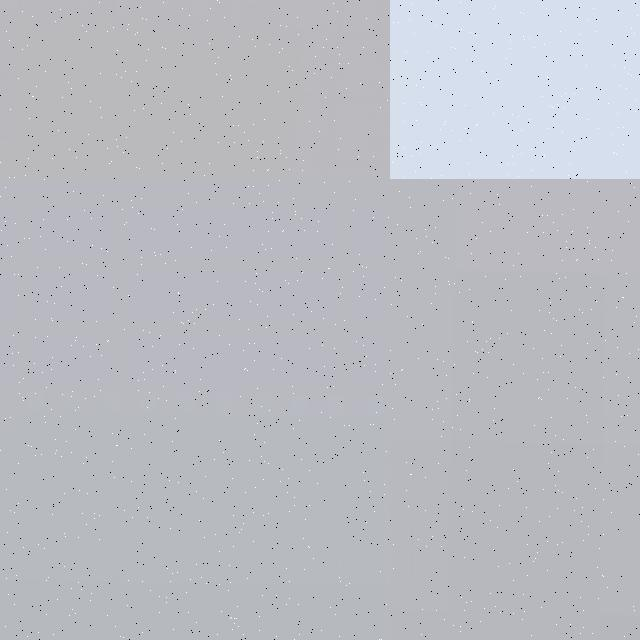drone: (0, 0, 390, 179), (390, 0, 640, 179)
